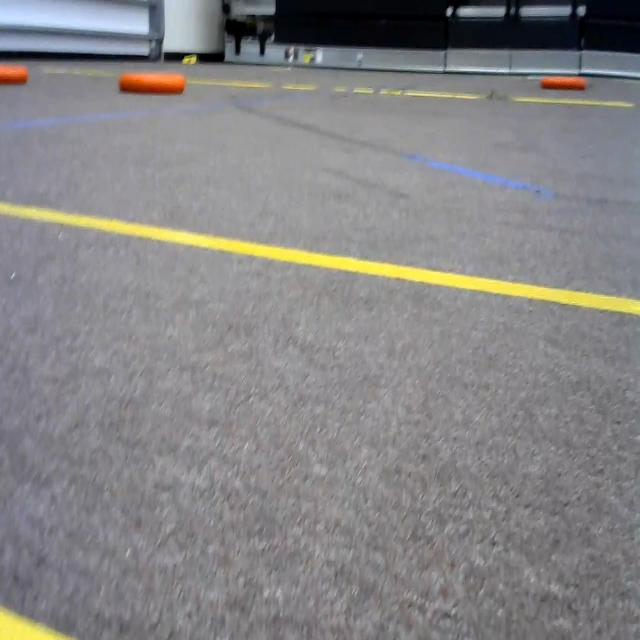note: (115, 65, 192, 100), (0, 54, 37, 98), (538, 74, 593, 96)
